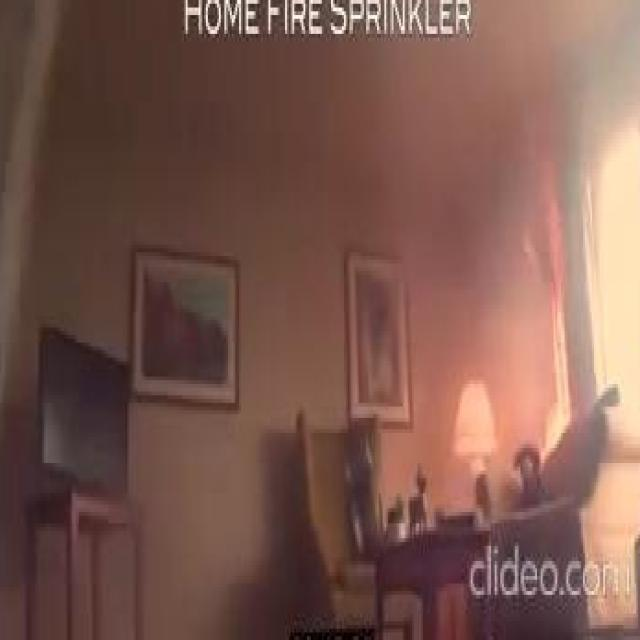smoke: (524, 162, 574, 463)
